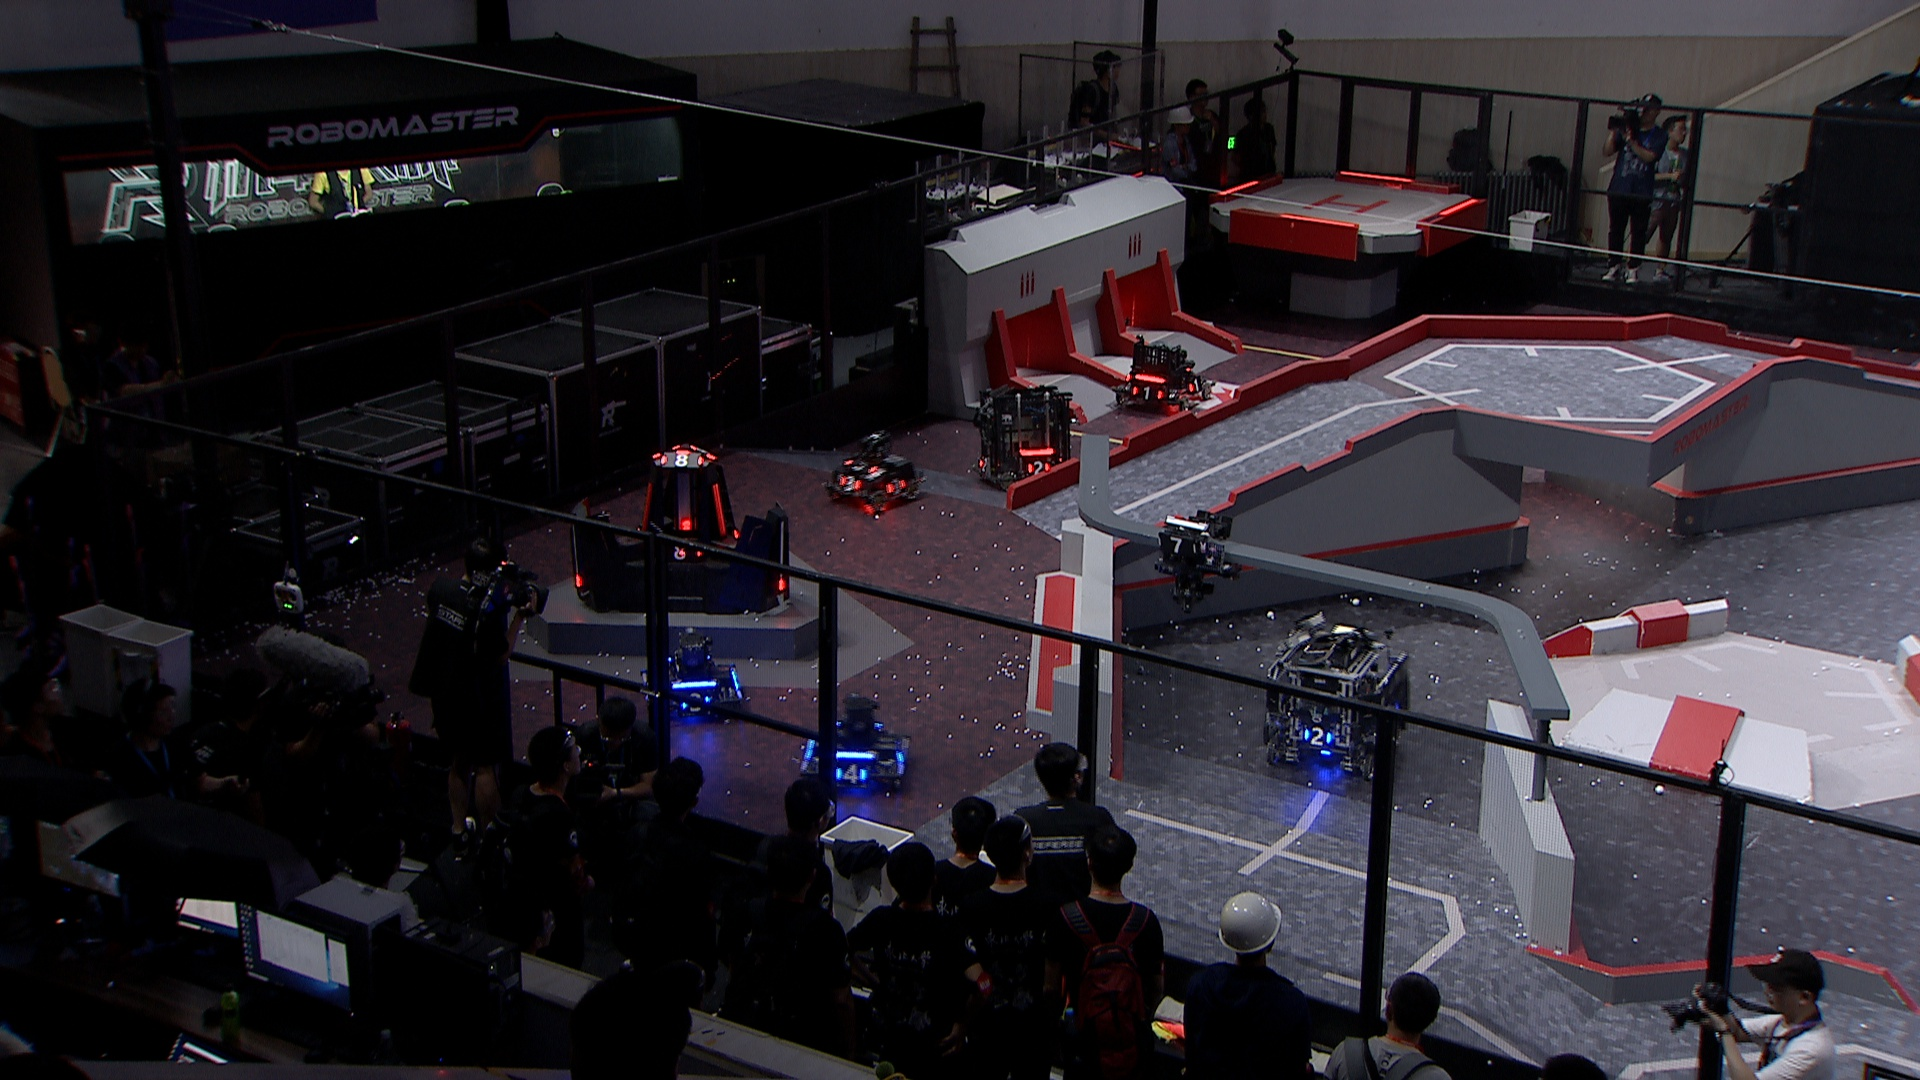armor: (709, 480, 728, 541), (1154, 534, 1197, 559), (676, 690, 713, 716), (638, 480, 655, 533), (832, 764, 869, 785), (657, 454, 705, 469), (666, 545, 702, 564), (1300, 725, 1333, 746), (1130, 385, 1163, 404), (844, 458, 882, 473), (1025, 458, 1051, 479), (884, 476, 910, 495), (839, 473, 861, 493), (975, 456, 993, 475), (1185, 377, 1203, 396), (675, 516, 695, 531), (774, 572, 789, 593), (572, 568, 585, 589)
base: (564, 442, 793, 617)
car: (1262, 609, 1414, 782), (795, 694, 913, 798), (973, 382, 1076, 491), (636, 626, 745, 727), (822, 431, 923, 514), (1112, 334, 1207, 414)
watcher: (1149, 510, 1240, 613)
